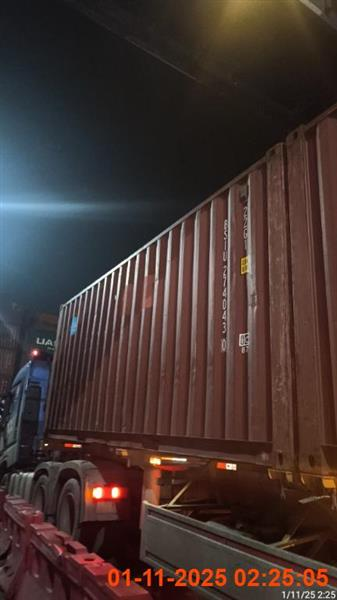broken: (2, 103, 335, 560)
